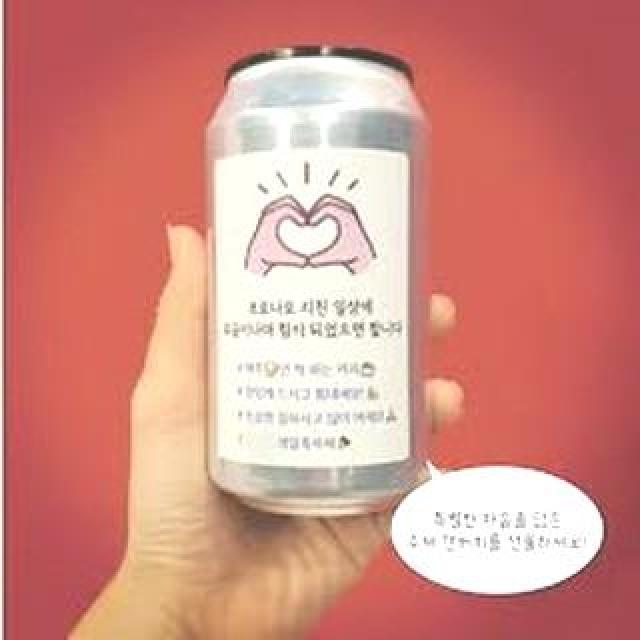Can: (198, 40, 430, 522)
